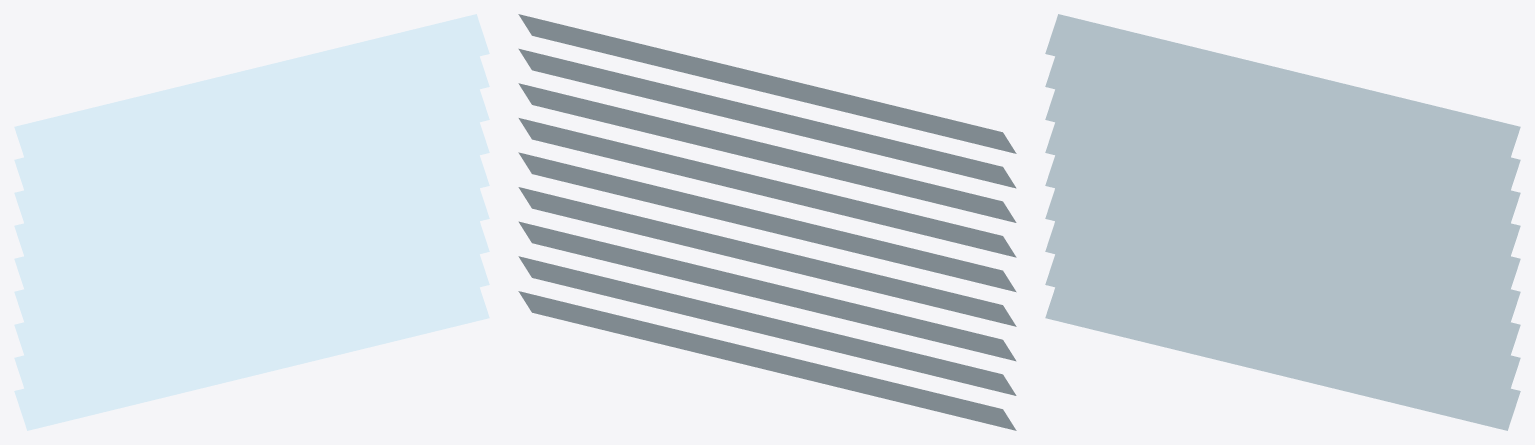
File: Curtains_029.glb
The picture shows the model from 3 angles, left to right: view 1: azimuth 30°, elevation 25°; view 2: azimuth 150°, elevation 25°; view 3: azimuth 330°, elevation 25°; orthographic projection. The views are drawn at different scales.
Visible parts, largest first — view 1: Curtains_029; view 2: Curtains_029; view 3: Curtains_029.
Part boxes in pixels (<box>): Curtains_029: <box>14,14,489,430</box>; Curtains_029: <box>518,14,1016,430</box>; Curtains_029: <box>1045,14,1520,430</box>.
Size of the model in its own units: 1.53 by 0.9326 by 0.0752.
1 material, 1 textured.
